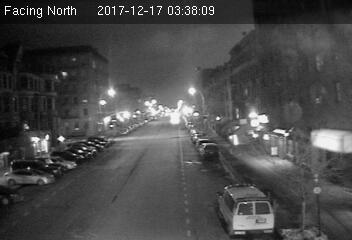police: (214, 181, 278, 236)
